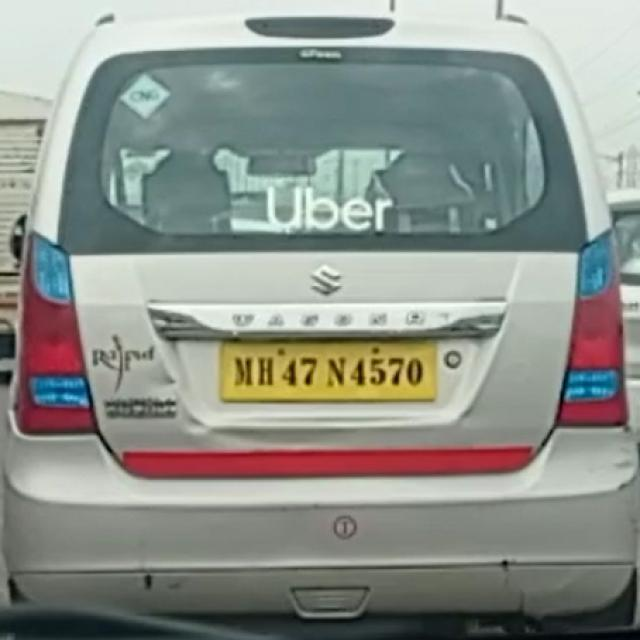number_plate: (218, 342, 438, 408)
